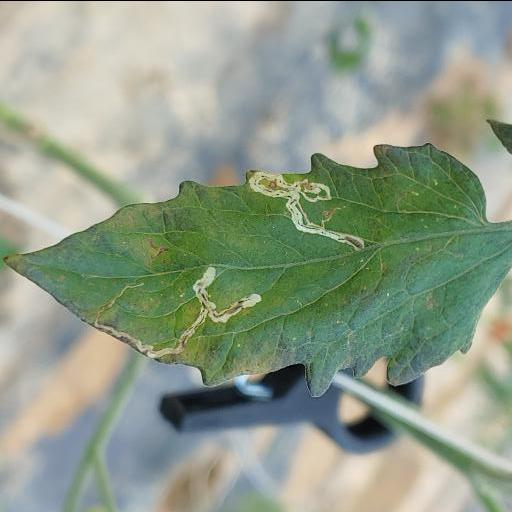disease_tomato: (2, 141, 512, 399)
